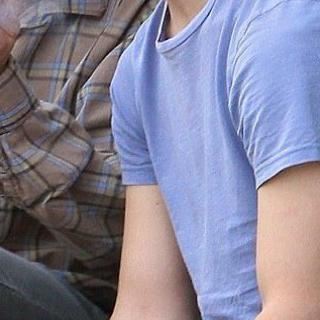smoke: (0, 0, 51, 25)
